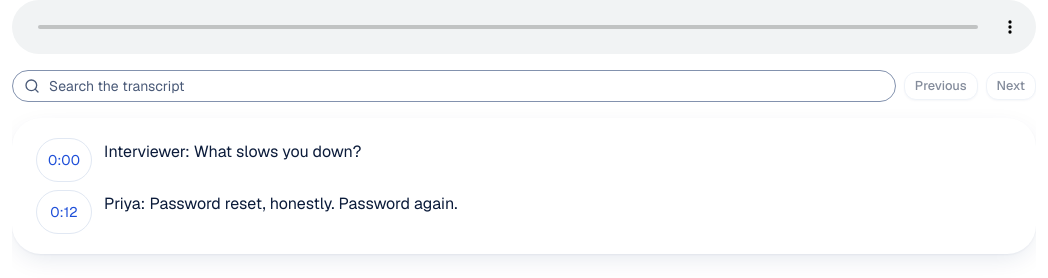
Scenario: transcript search › moves to the next match and wraps around
The image size is (1048, 278).
Step 1. Type "password" into the field labelled "Search the transcript" → (454, 86), box [12,70,896,102]
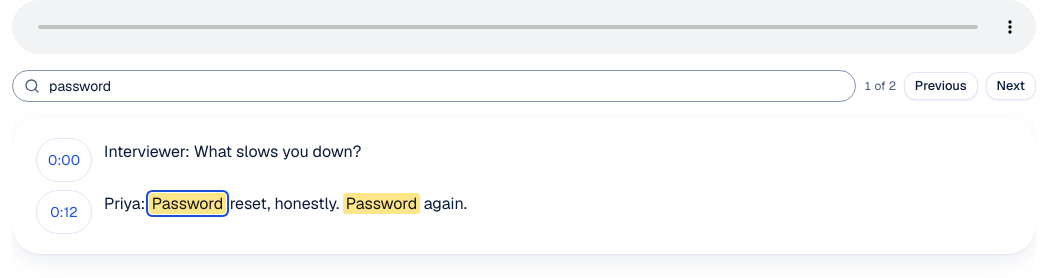
Step 2. Click the button with aria-label "Next match" → click(1011, 86), box [986,72,1036,100]
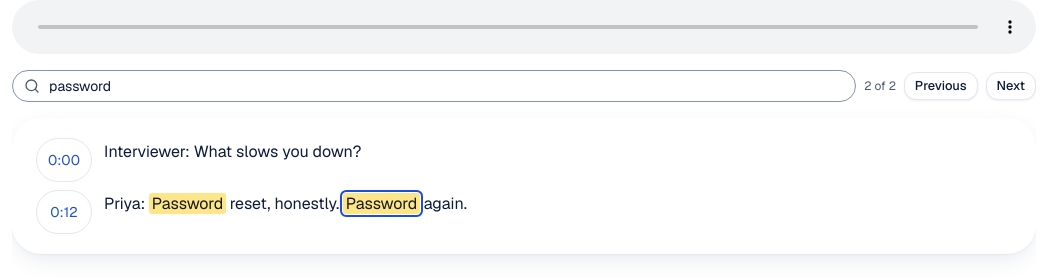
Check: the 2nd text "Password" is shown, box [343,193,420,214]
Check: the message reads "2 of 2", box [864,78,896,94]
Step 3. Click the button with aria-label "Next match" → click(1011, 86), box [986,72,1036,100]
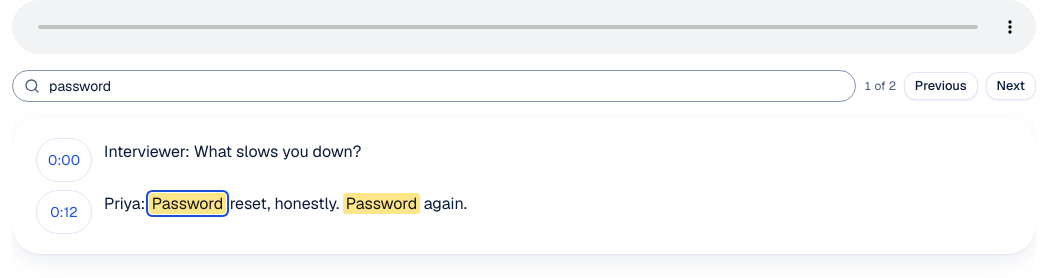
Check: the message reads "1 of 2", box [864,78,896,94]
